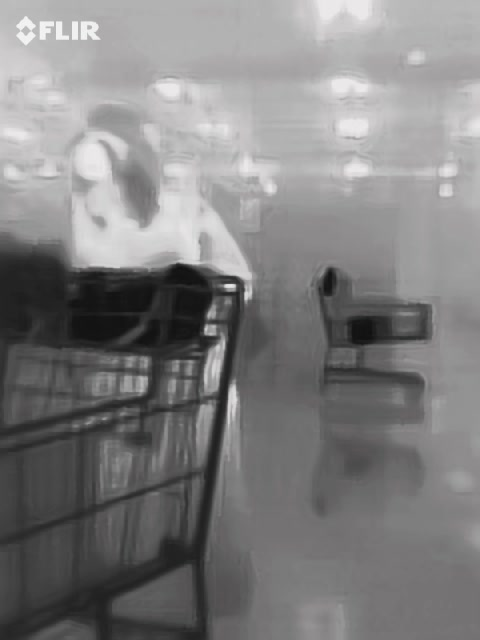head: (70, 123, 144, 218)
